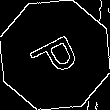P_NE: (24, 27, 86, 83)
